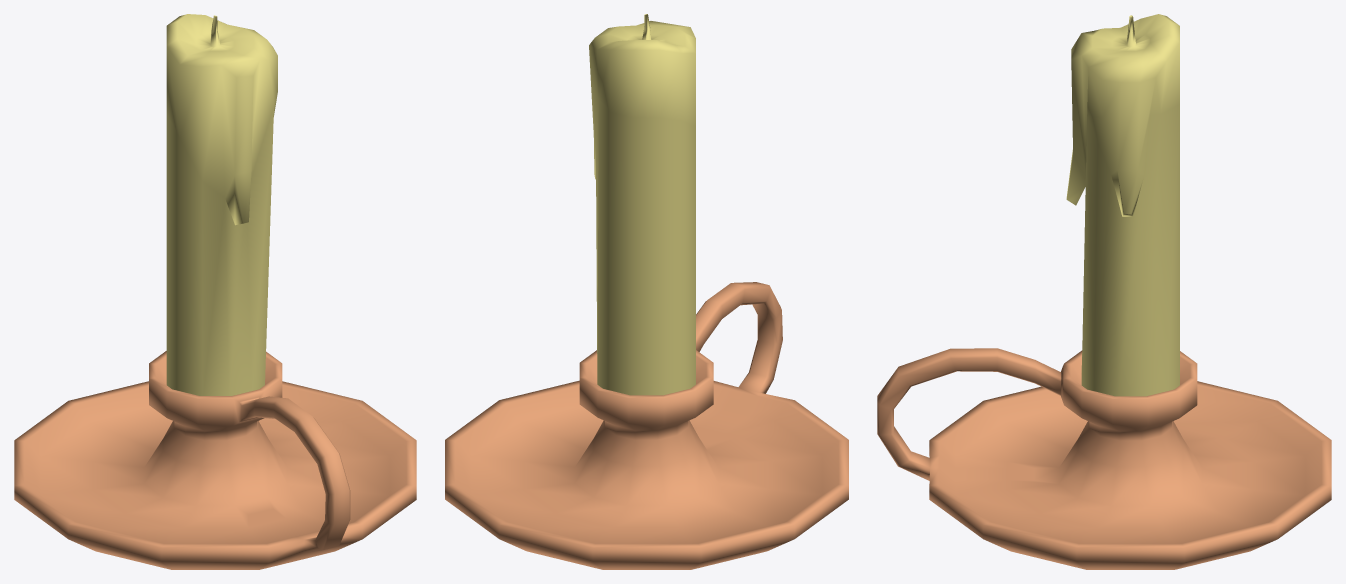
File: Candle.fbx
3 views of the same model, side by side, from view 1: azimuth 30°, elevation 25°; view 2: azimuth 150°, elevation 25°; view 3: azimuth 270°, elevation 25° (orthographic).
Visible parts, largest first — view 1: CandleHolder_low, Candle_low; view 2: CandleHolder_low, Candle_low; view 3: CandleHolder_low, Candle_low.
Boxes of the visible parts, bbox=[...] form: CandleHolder_low: bbox=[14, 351, 416, 569]; Candle_low: bbox=[166, 14, 277, 395]; CandleHolder_low: bbox=[445, 282, 848, 569]; Candle_low: bbox=[589, 14, 695, 395]; CandleHolder_low: bbox=[877, 348, 1331, 569]; Candle_low: bbox=[1066, 14, 1179, 396].
Size of the model in its own units: 4.44 by 5.9 by 5.02.
